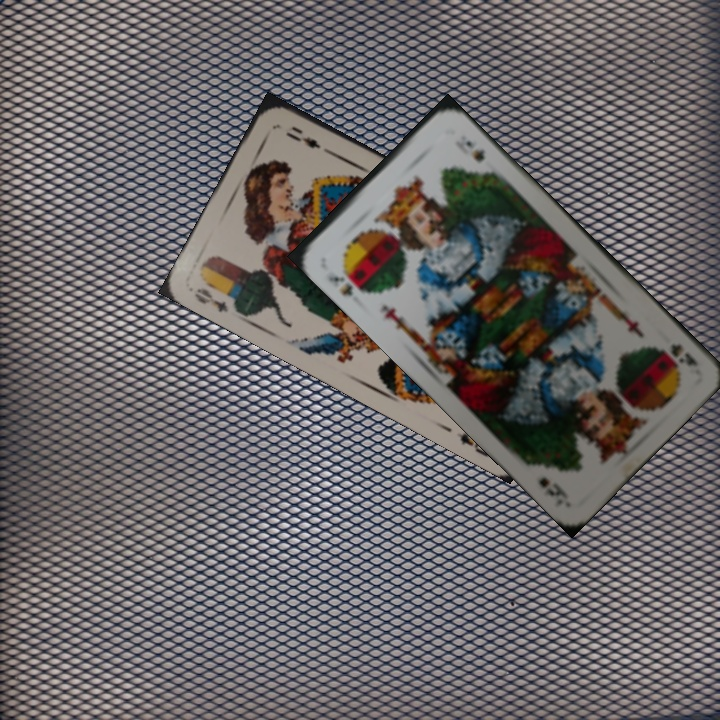EO: (190, 284, 231, 315)
SK: (323, 261, 370, 299), (658, 339, 701, 369)
